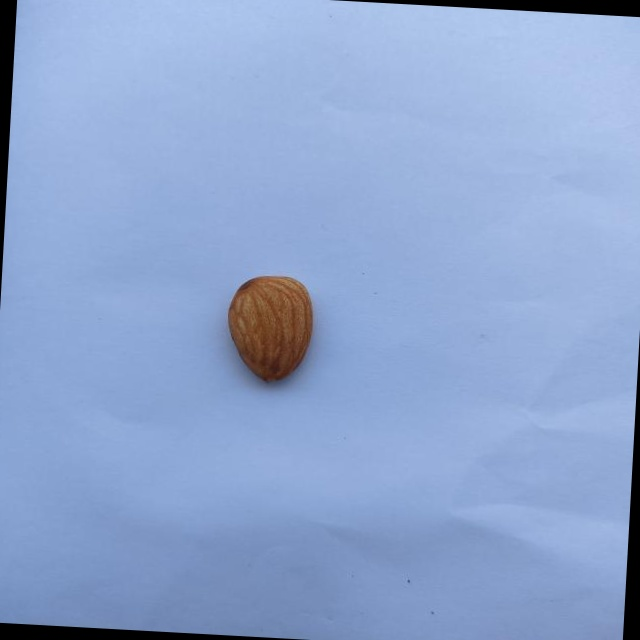grade1: (218, 266, 326, 393)
